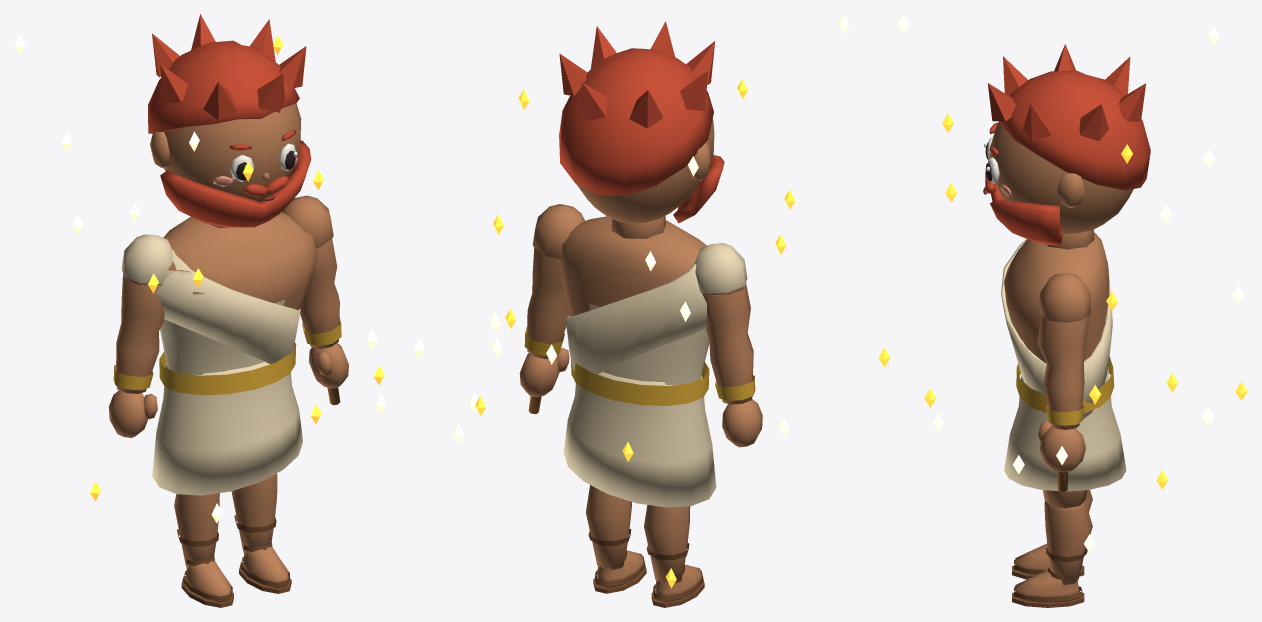
File: prometheus.glb
The picture shows the model from 3 angles, left to right: view 1: azimuth 30°, elevation 25°; view 2: azimuth 150°, elevation 25°; view 3: azimuth 270°, elevation 25°; orthographic projection. The views are drawn at different scales.
Parts seen in each view (by area): view 1: rumpf, huefte, haare, armL, kopf, armR, bart, knieL, knieR, vfx_funken_1, vfx_funken_0; view 2: rumpf, haare, huefte, armL, armR, kopf, knieR, knieL, bart, vfx_funken_2, vfx_funken_1, vfx_funken_0; view 3: haare, rumpf, armR, kopf, huefte, knieR, bart, knieL, vfx_funken_1, vfx_funken_0, vfx_funken_2, beinR.
Part boxes in pixels (x1,y1,x2,y2): rumpf: [155, 212, 317, 395]; huefte: [152, 362, 302, 495]; haare: [148, 14, 306, 133]; armL: [109, 234, 172, 437]; kopf: [150, 103, 301, 227]; armR: [282, 195, 348, 388]; bart: [160, 140, 311, 227]; knieL: [174, 493, 233, 607]; knieR: [231, 473, 291, 593]; vfx_funken_1: [14, 35, 384, 501]; vfx_funken_0: [61, 132, 377, 523]; rumpf: [561, 216, 709, 405]; haare: [559, 21, 715, 195]; huefte: [563, 372, 716, 507]; armL: [695, 243, 762, 447]; armR: [519, 204, 584, 397]; kopf: [576, 119, 714, 238]; knieR: [586, 485, 646, 593]; knieL: [644, 505, 704, 607]; bart: [673, 155, 724, 223]; vfx_funken_2: [453, 89, 785, 461]; vfx_funken_1: [493, 14, 849, 588]; vfx_funken_0: [491, 79, 789, 437]; haare: [988, 44, 1150, 190]; rumpf: [1001, 232, 1114, 419]; armR: [1037, 272, 1090, 472]; kopf: [990, 121, 1133, 249]; huefte: [1004, 367, 1126, 491]; knieR: [1012, 500, 1092, 607]; bart: [985, 172, 1062, 245]; knieL: [1012, 490, 1092, 579]; vfx_funken_1: [897, 14, 1219, 489]; vfx_funken_0: [878, 113, 1243, 464]; vfx_funken_2: [1012, 144, 1247, 553]; beinR: [1043, 490, 1087, 508].
Size of the model in its own units: 1.4 by 2.33 by 1.51.
